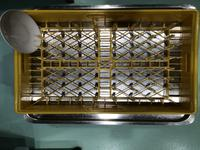Dish: (1, 9, 41, 54)
